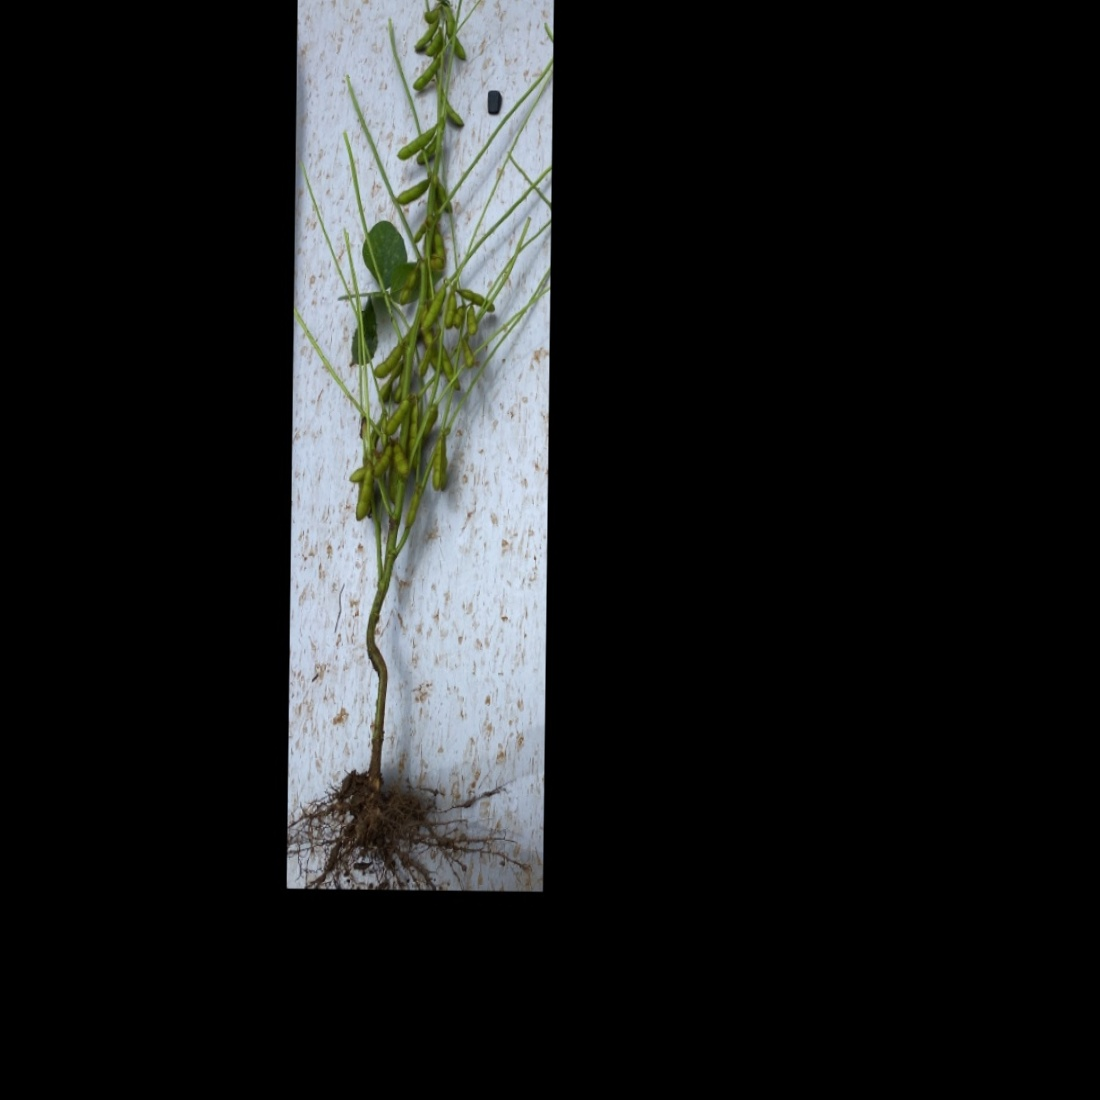pod: (421, 285, 447, 331), (355, 463, 374, 524), (453, 285, 495, 312), (383, 398, 411, 436), (395, 174, 429, 205), (439, 347, 461, 393), (410, 57, 439, 92), (439, 91, 465, 128), (430, 434, 442, 492), (372, 444, 392, 478), (440, 434, 450, 493), (392, 445, 410, 475), (444, 291, 457, 330), (405, 490, 418, 528), (424, 33, 442, 58), (464, 305, 478, 337)
soy: (296, 0, 512, 845)
